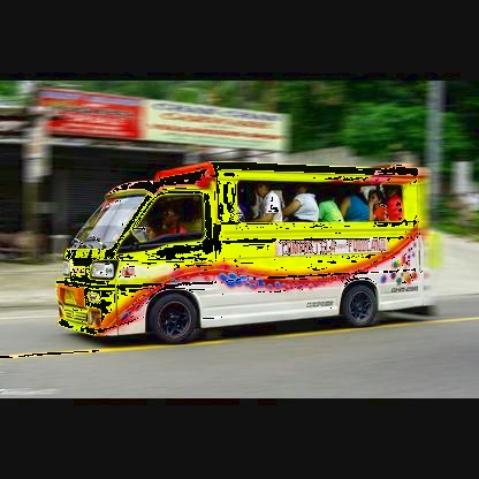jeepney: (58, 141, 453, 355)
